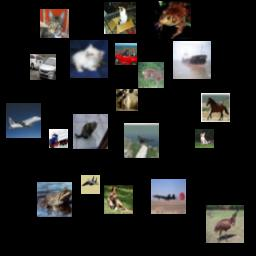airplane: (124, 123, 159, 158), (151, 179, 186, 214), (6, 103, 41, 138), (81, 175, 100, 194)
automobile: (30, 54, 56, 80), (115, 43, 137, 65)
bird: (206, 205, 244, 243)
cat: (70, 40, 108, 78), (73, 114, 108, 149), (104, 2, 136, 34), (40, 9, 69, 38), (116, 89, 138, 111)
deer: (138, 62, 164, 88)
dog: (104, 185, 133, 214), (195, 129, 214, 148)
frog: (153, 1, 191, 39), (37, 182, 72, 217)
ship: (173, 41, 211, 79)
truck: (49, 129, 68, 148)
